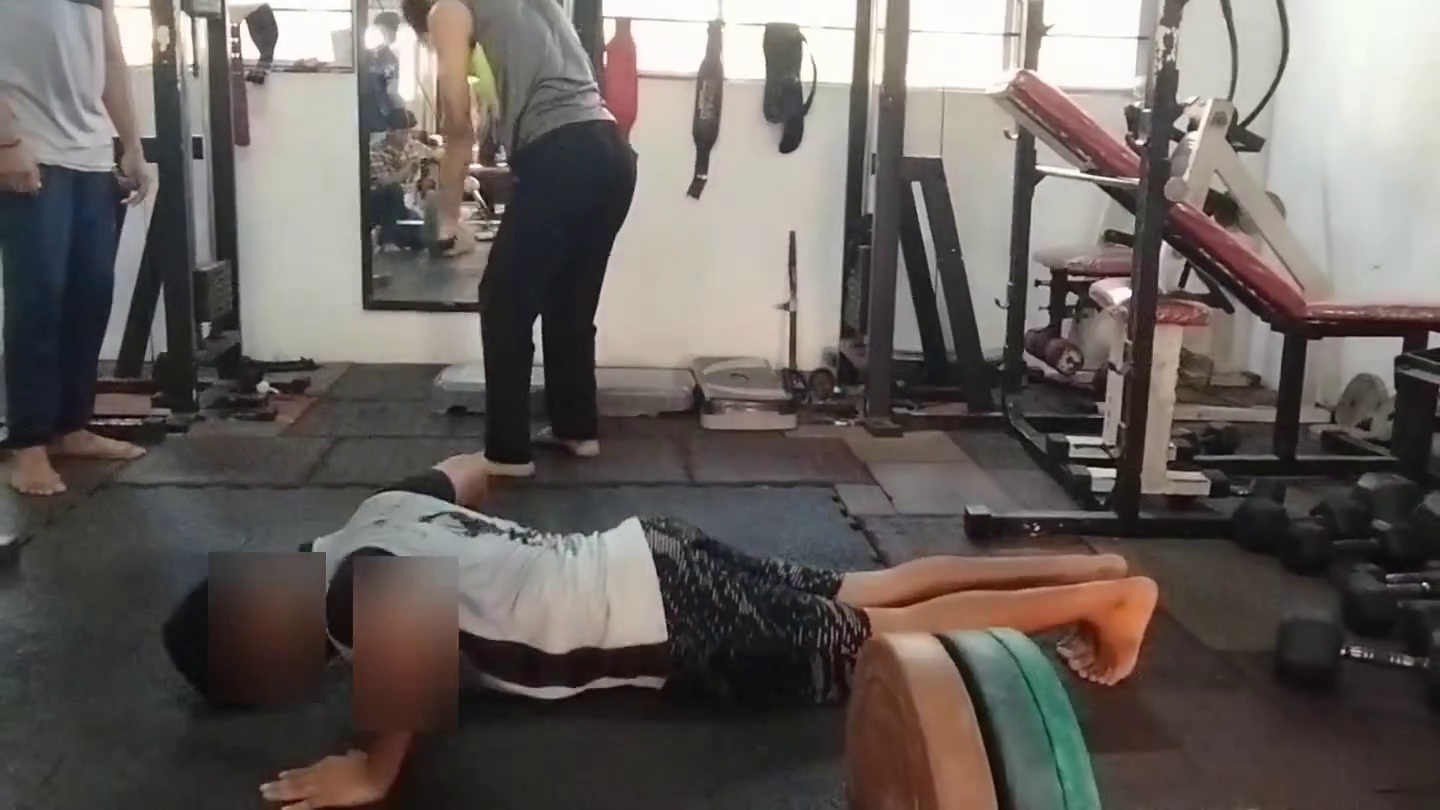push_up_correct: (208, 434, 751, 810)
